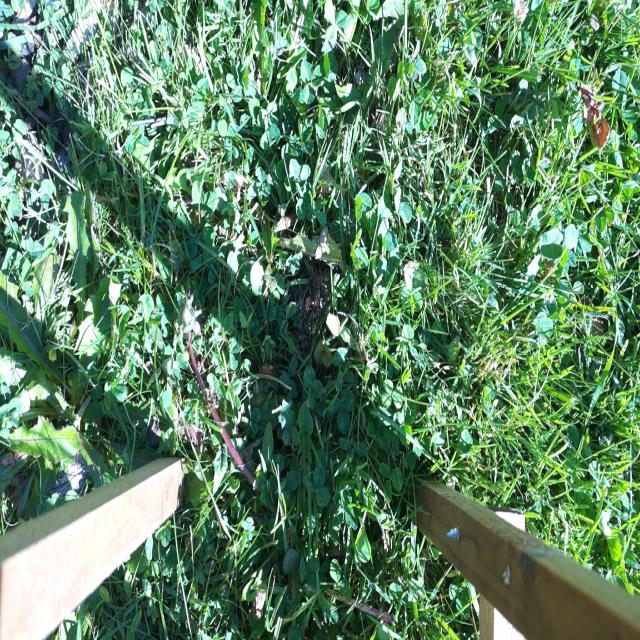base: (243, 462, 265, 500)
flower: (173, 292, 200, 342)
